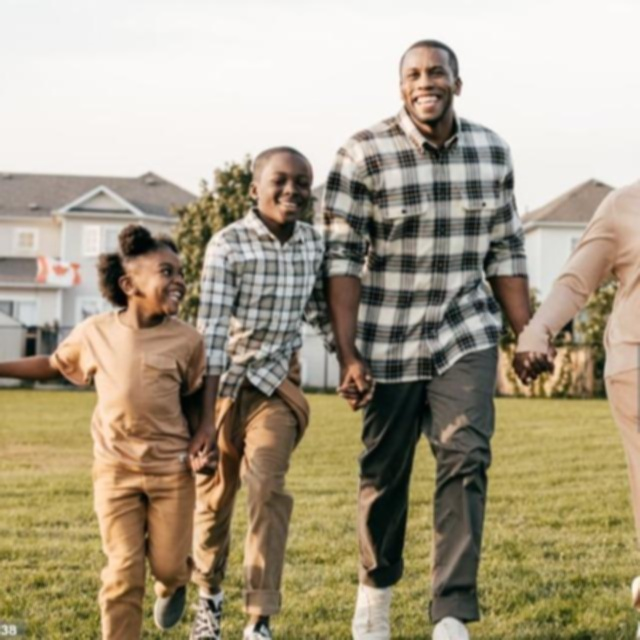Sin_Casco_Mascarrilla: (399, 41, 469, 127), (244, 146, 314, 224)
Sin_Chaleco: (332, 117, 522, 389), (82, 314, 202, 497), (202, 220, 326, 392)
